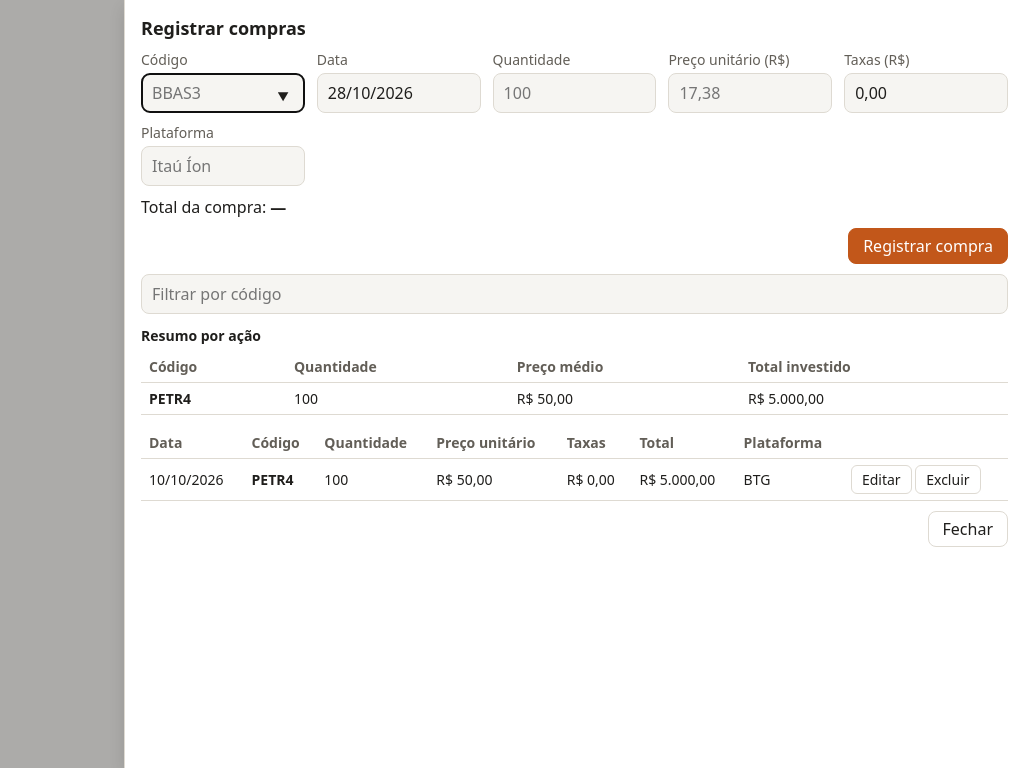
Scenario: RegistroCompras › edita uma compra: carrega no formulário, salva com PUT e volta ao formulário vazio
Expected: the table named "Compras registradas" is shown, [141,427,1008,501]
Click the button with aria-label "Editar a compra de PETR4 de 10/10/2026": (881, 480) [851,465,912,494]
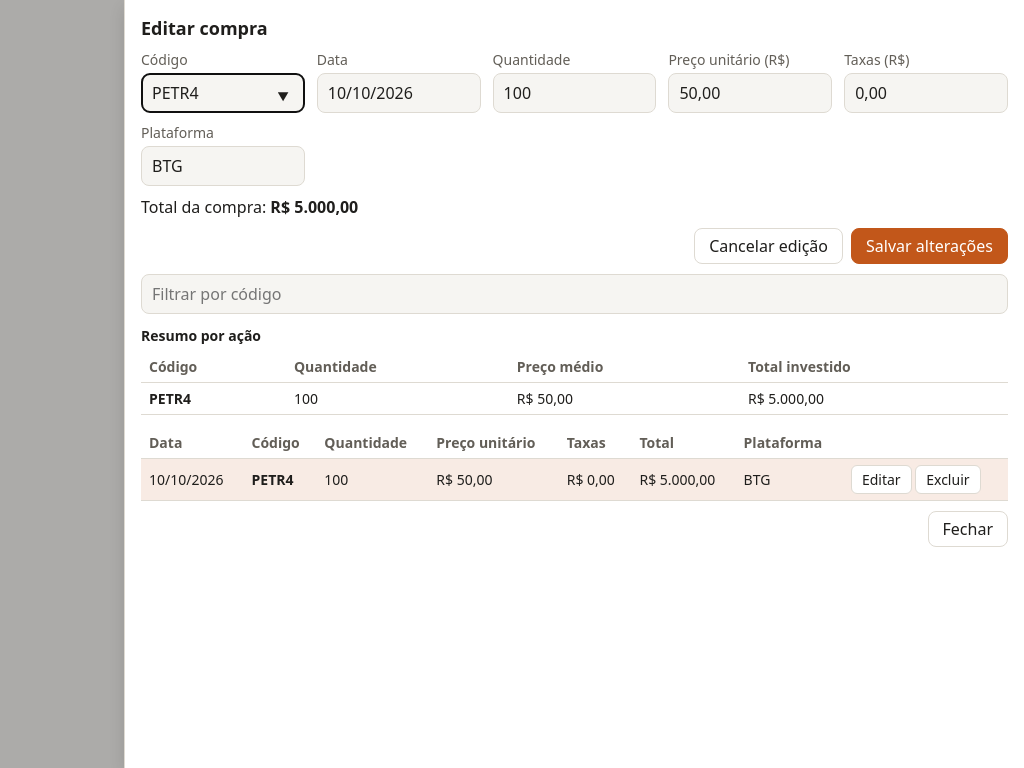
Expected: the dialog "Editar compra" is shown
Expected: the field labelled "Código" holds "PETR4", [141,73,305,113]
Expected: the field labelled "Preço unitário (R$)" holds "50,00", [668,73,832,113]
In the field labelled "Quantidade": (574, 93) [493,73,656,113], type "150"
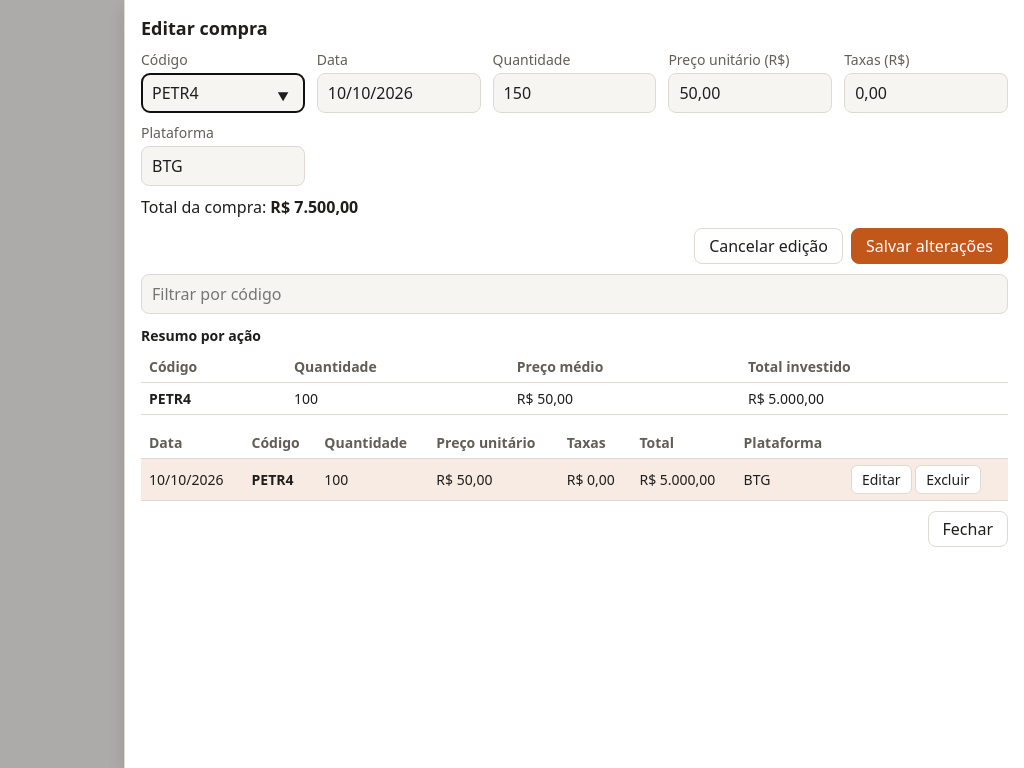
Click the button "Salvar alterações": (930, 246) [851,228,1008,264]
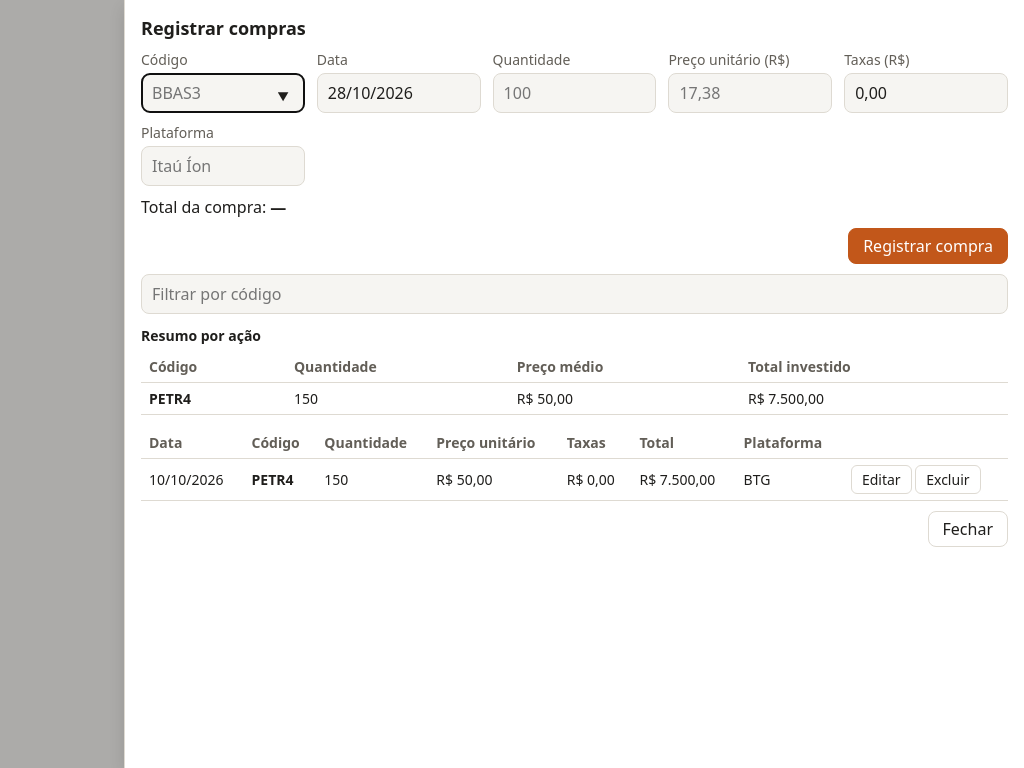
Expected: the 4th row shows "150", [324,470,348,489]
Expected: the dialog "Registrar compras" is shown
Expected: the field labelled "Código" is empty, [141,73,305,113]
